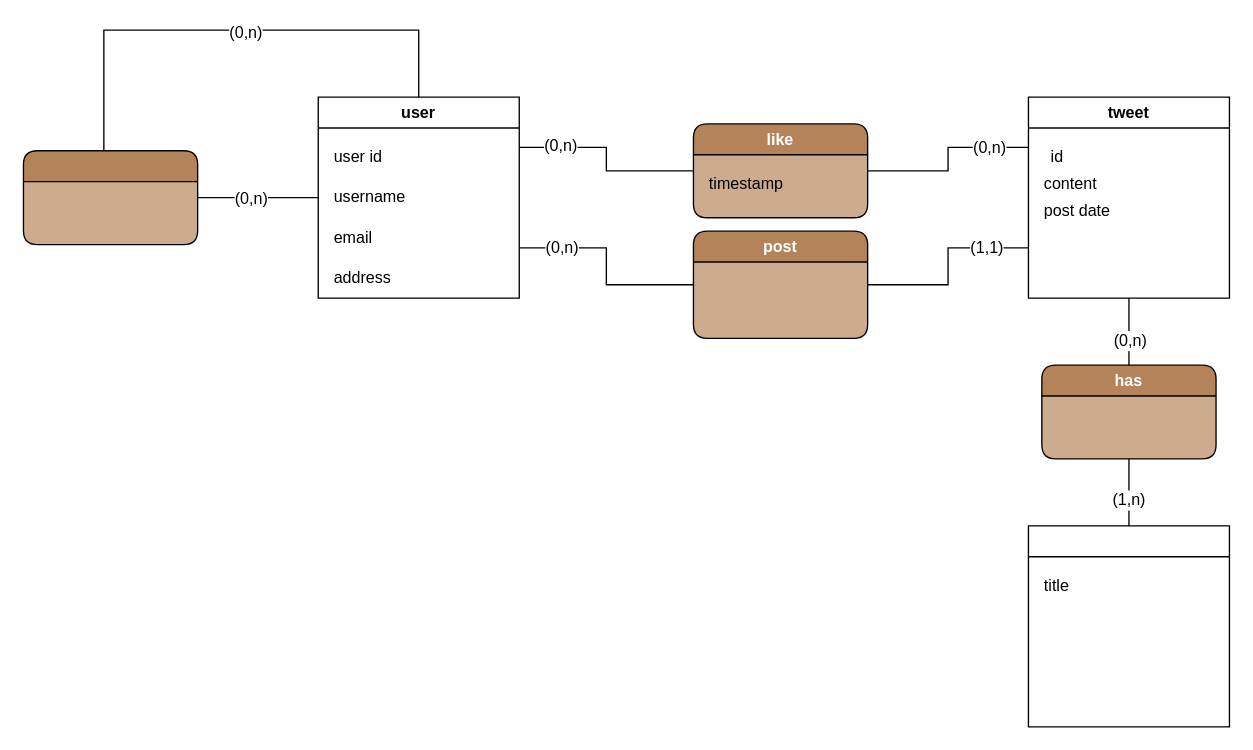
Some shapes in this 1253 by 750 pixel diagram are drawn without their labels. Each missing label, with the box of its shape:
follow: (22, 149, 198, 245)
hashtag: (1027, 525, 1229, 727)
